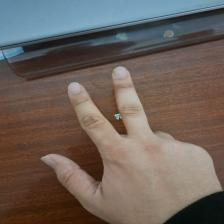three: (38, 65, 215, 213)
